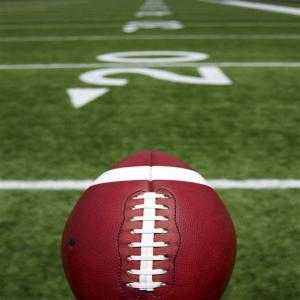Rugby: (61, 149, 236, 300)
